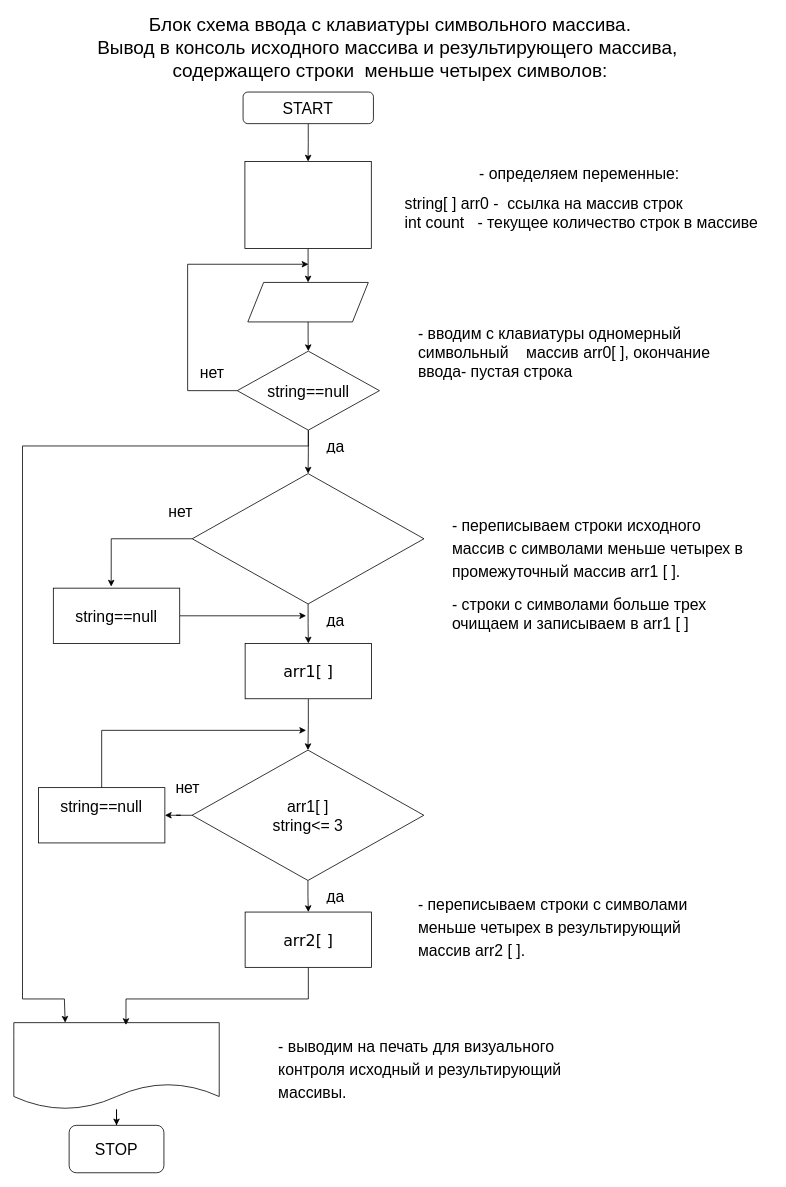
This 786x1187 diagram has some shape labels left out. The centre of each missing label's shape, as x and y in pixels:
arr0[ ]: [307,302]
arr0[ ] arr2[ ]: [116,1066]
arr0[ ] string<= 3: [307,538]
string[ ] arr0 int count: [307,204]
